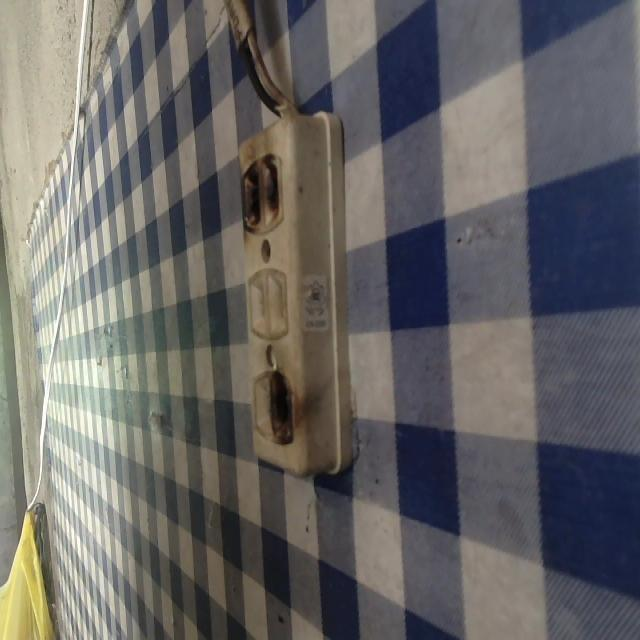-: (228, 151, 294, 237), (263, 367, 304, 449)
